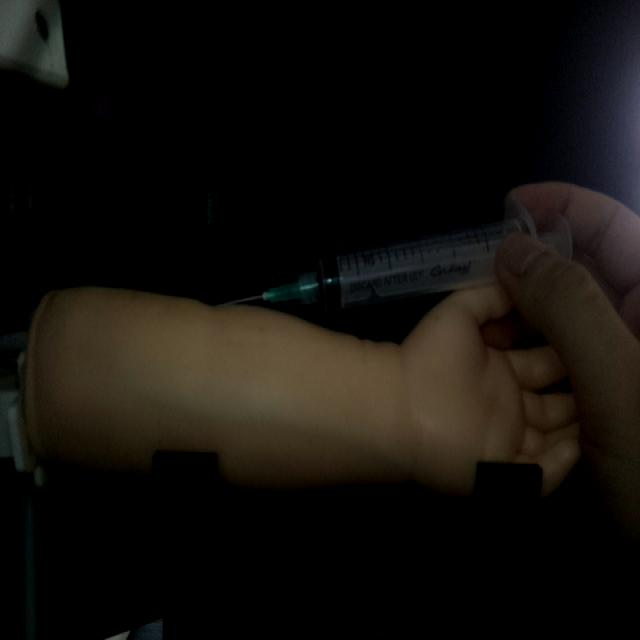Below 15 degrees: (216, 203, 571, 317)
